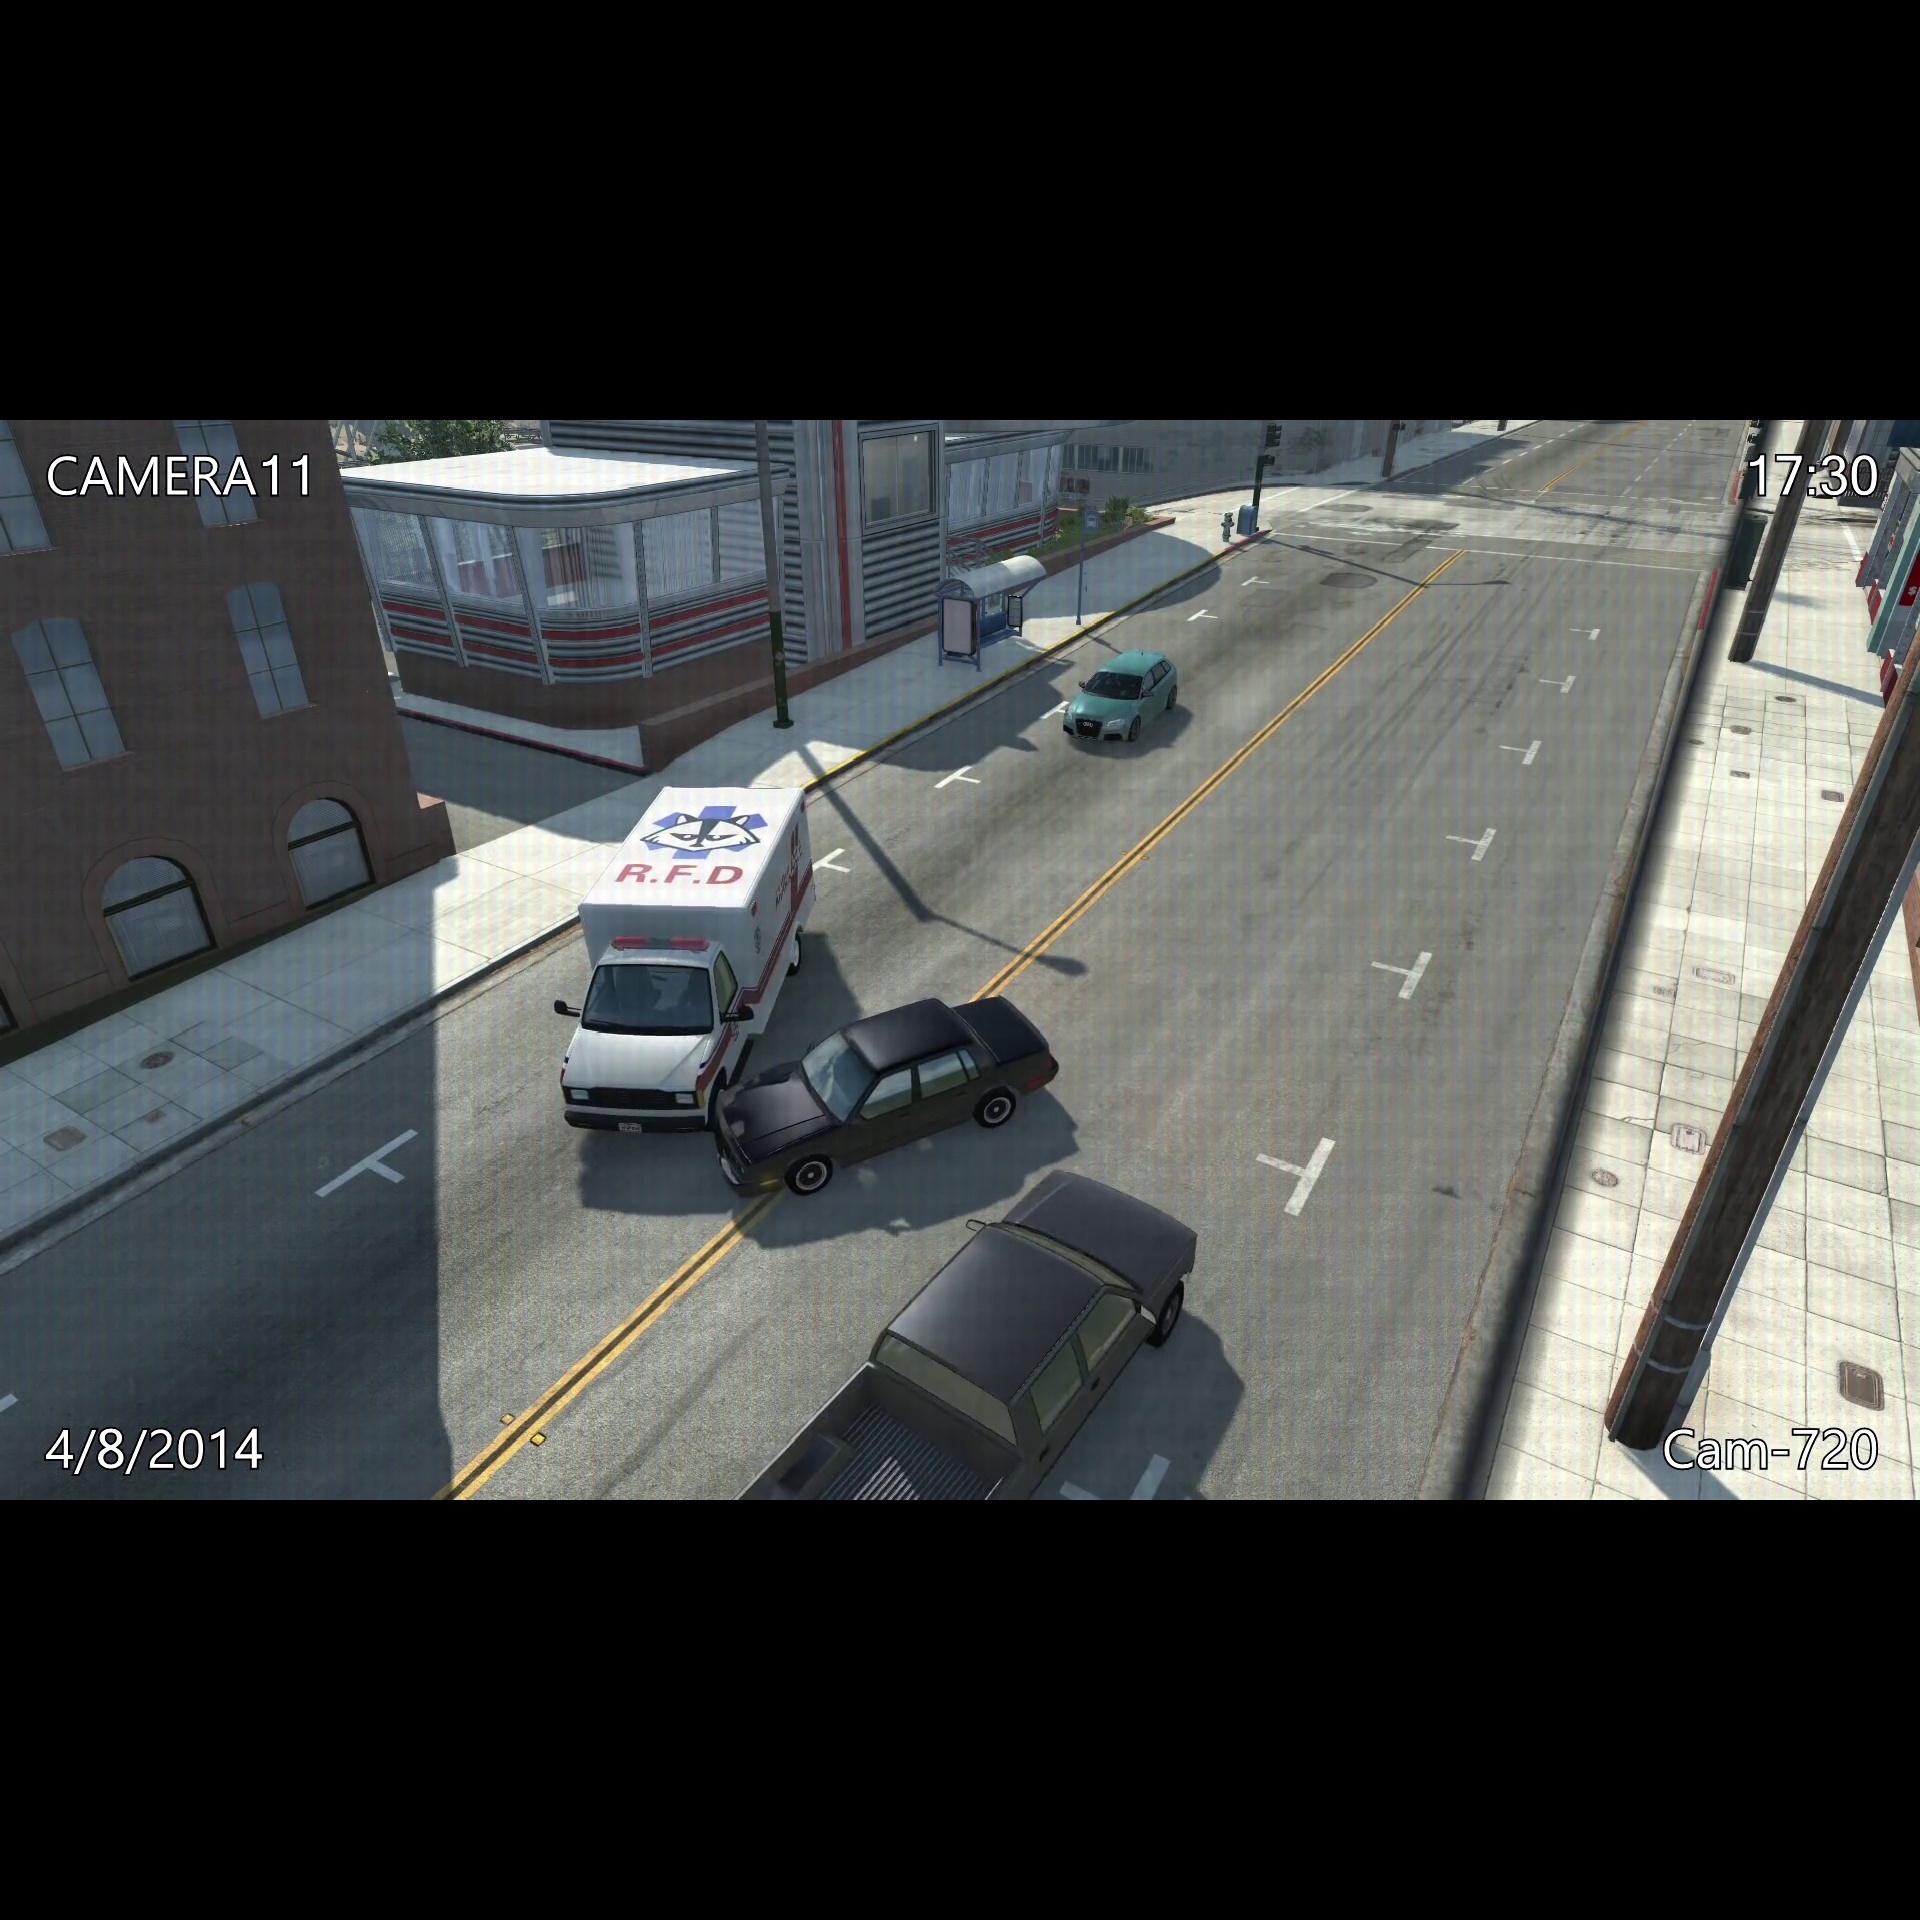vehicle: (723, 1160, 1210, 1498), (549, 772, 816, 1138), (695, 993, 1065, 1211), (1064, 642, 1182, 749)
